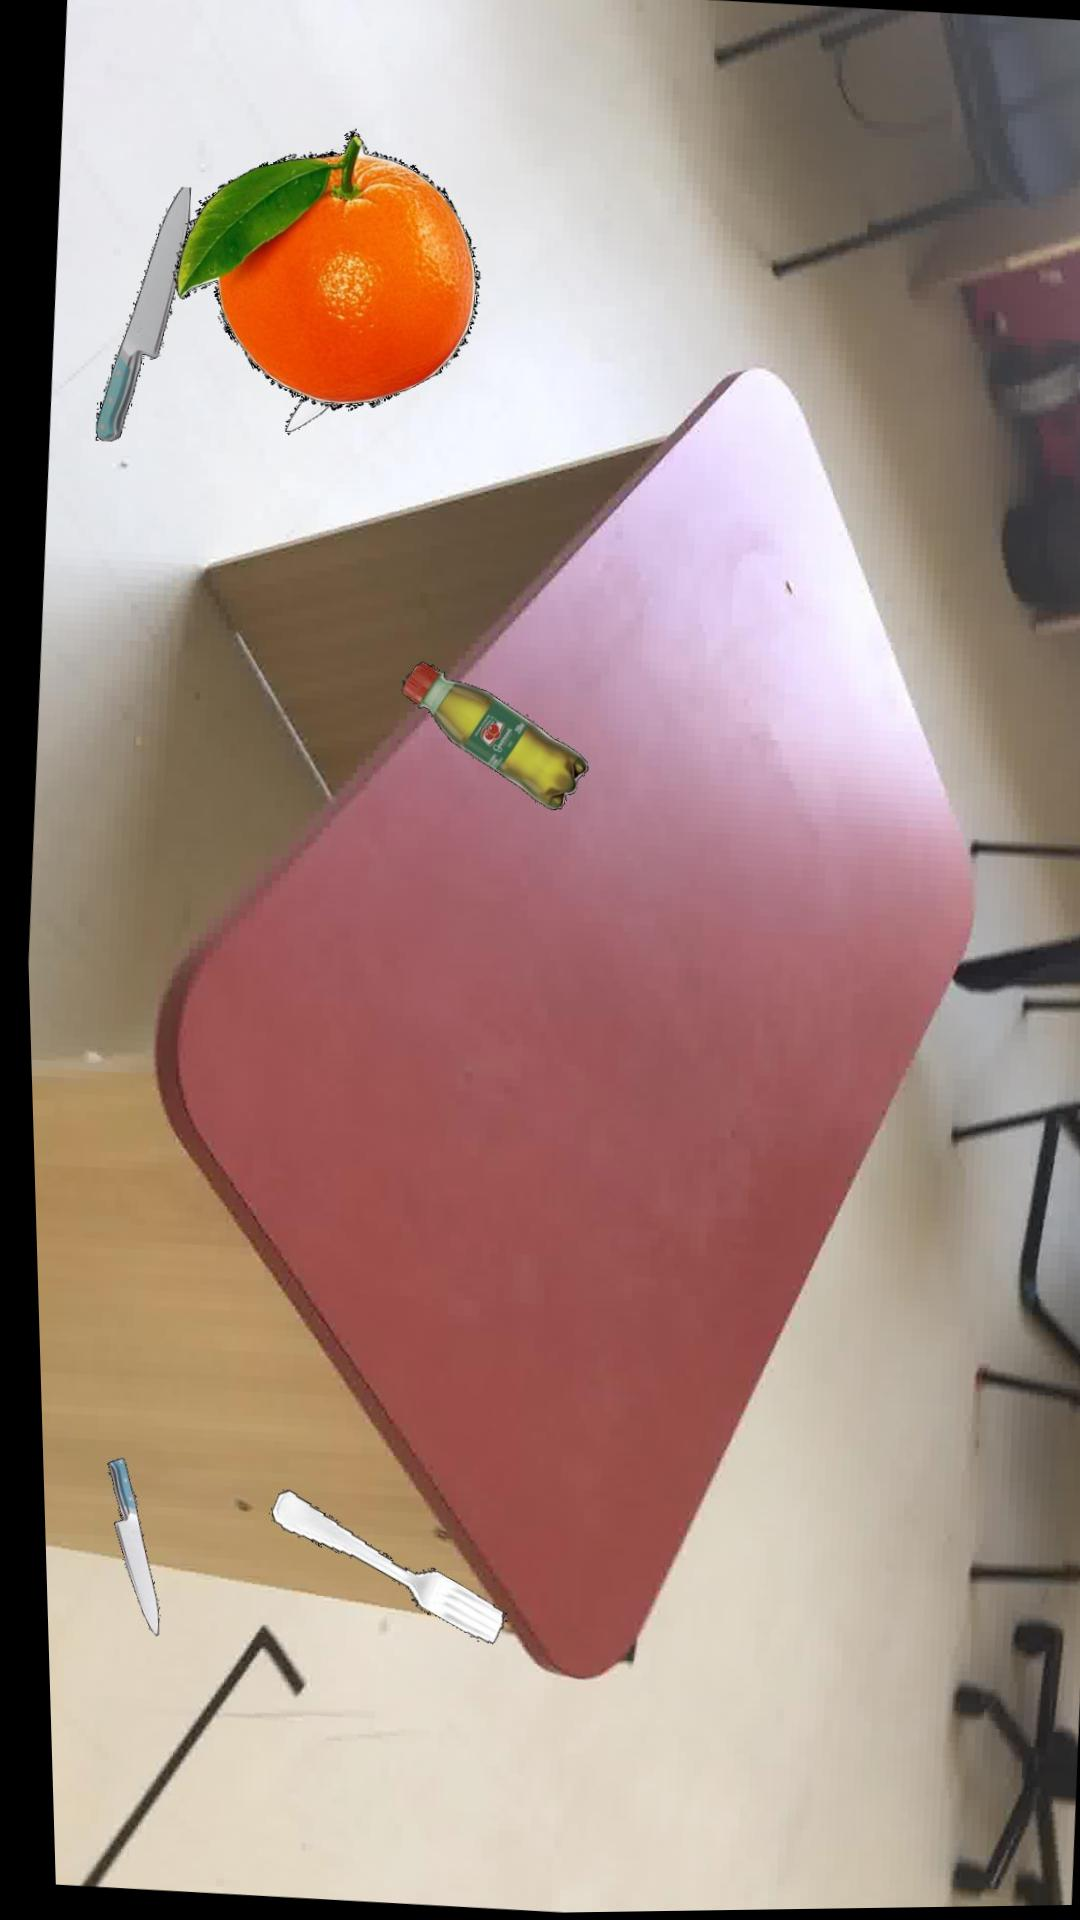fork: (260, 1491, 491, 1646)
guarana: (394, 663, 580, 812)
knife: (90, 189, 186, 442), (95, 1458, 146, 1636), (280, 400, 324, 434)
orange: (170, 133, 475, 411)
